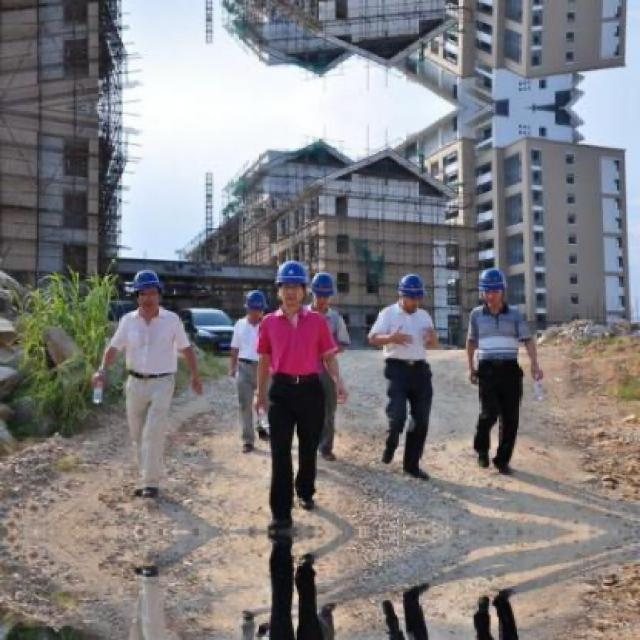helmet: (272, 258, 311, 308), (134, 268, 166, 315), (480, 267, 509, 308), (309, 270, 337, 308), (397, 272, 426, 308), (242, 286, 268, 322)
